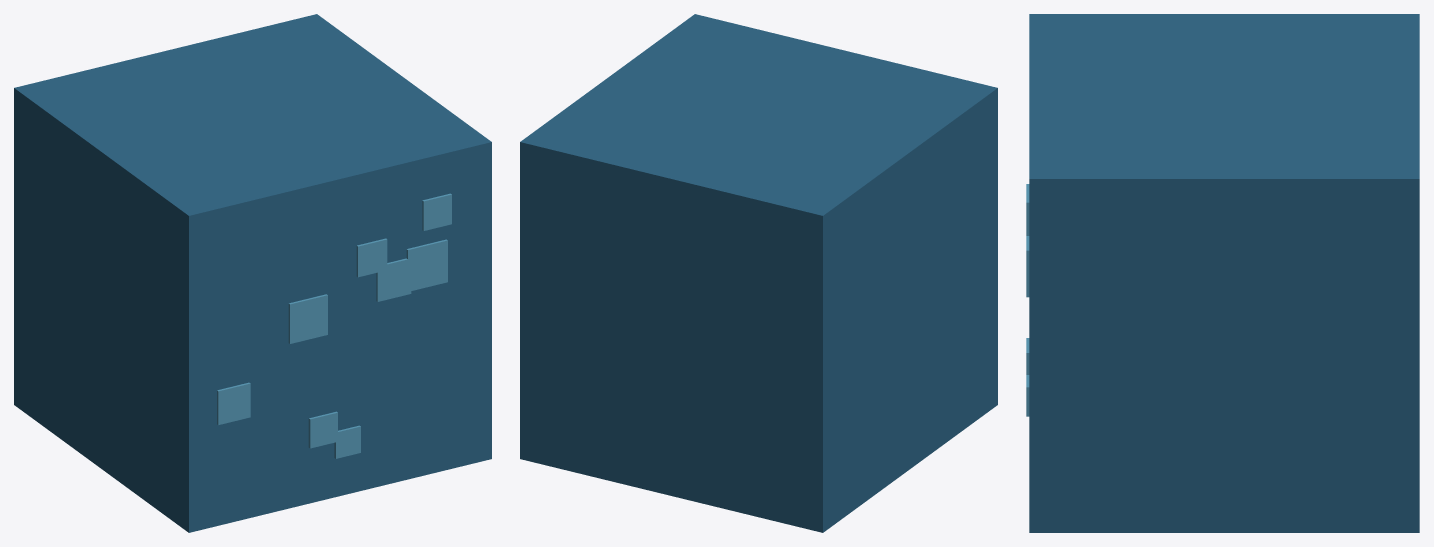
The model's file is water_block.glb.
3 renders of one model, left to right at view 1: azimuth 30°, elevation 25°; view 2: azimuth 150°, elevation 25°; view 3: azimuth 270°, elevation 25°, orthographic. The views are drawn at different scales.
Visible parts, largest first — view 1: water_block; view 2: water_block; view 3: water_block.
Boxes of the visible parts, x1,y1,x2,y2 form: water_block: (14,14,491,532); water_block: (520,14,997,532); water_block: (1026,14,1419,532).
Size of the model in its own units: 1 by 1 by 1.01.
